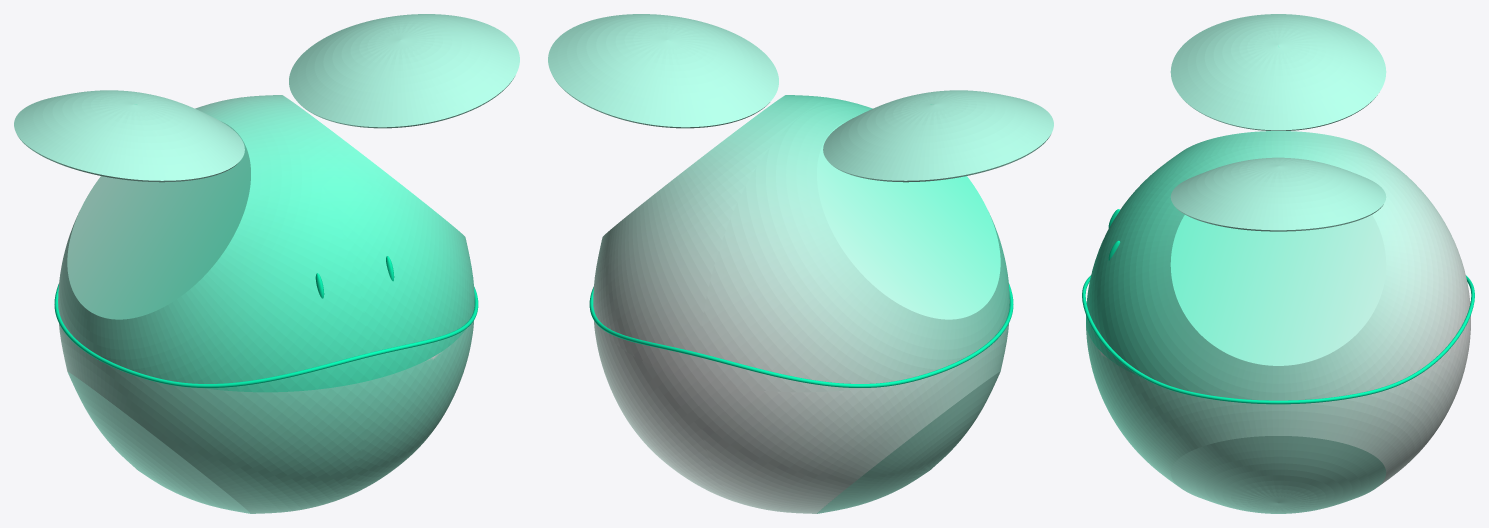
Rendered from Hello.obj.
3 views of the same model, side by side, from view 1: azimuth 30°, elevation 25°; view 2: azimuth 150°, elevation 25°; view 3: azimuth 270°, elevation 25° (orthographic). The views are drawn at different scales.
Parts seen in each view (by area): view 1: 球.002; view 2: 球.002; view 3: 球.002.
Boxes of the visible parts, <box> form: 球.002: <box>14,14,519,513</box>; 球.002: <box>548,14,1053,513</box>; 球.002: <box>1082,14,1474,513</box>.
Size of the model in its own units: 2.6 by 2.21 by 2.01.
1 material, 1 textured.
